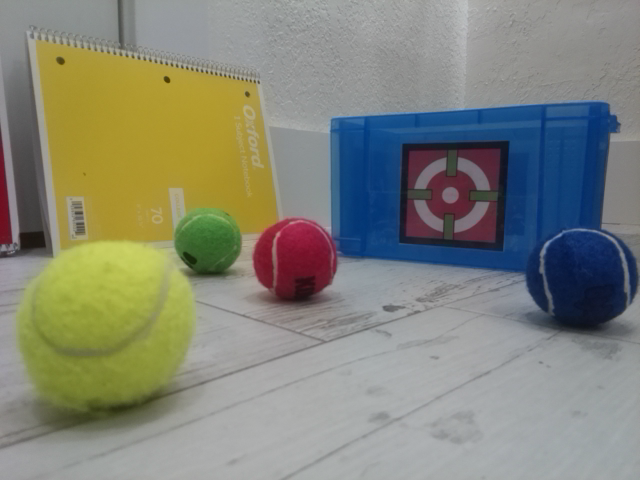blue-ball: (526, 224, 640, 330)
drop-bin: (398, 139, 512, 250)
green-ball: (174, 207, 243, 275)
red-ball: (251, 215, 338, 302)
yellow-ball: (15, 239, 196, 416)
